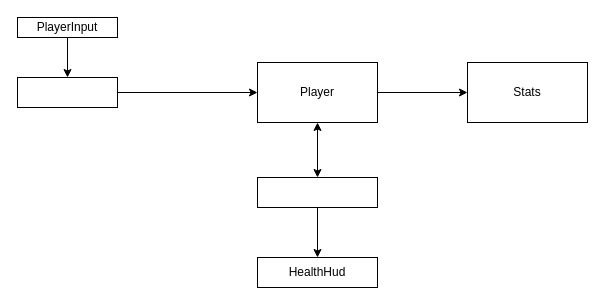
The diagram is 605 pixels wide and 305 high, and some of its shapes have lost their labels. The shapes that lost their labels are listed below. From the top down, each one's centre as x and y in pixels, then its label:
At [67,92]: "Move".
At [317,192]: "Health".
